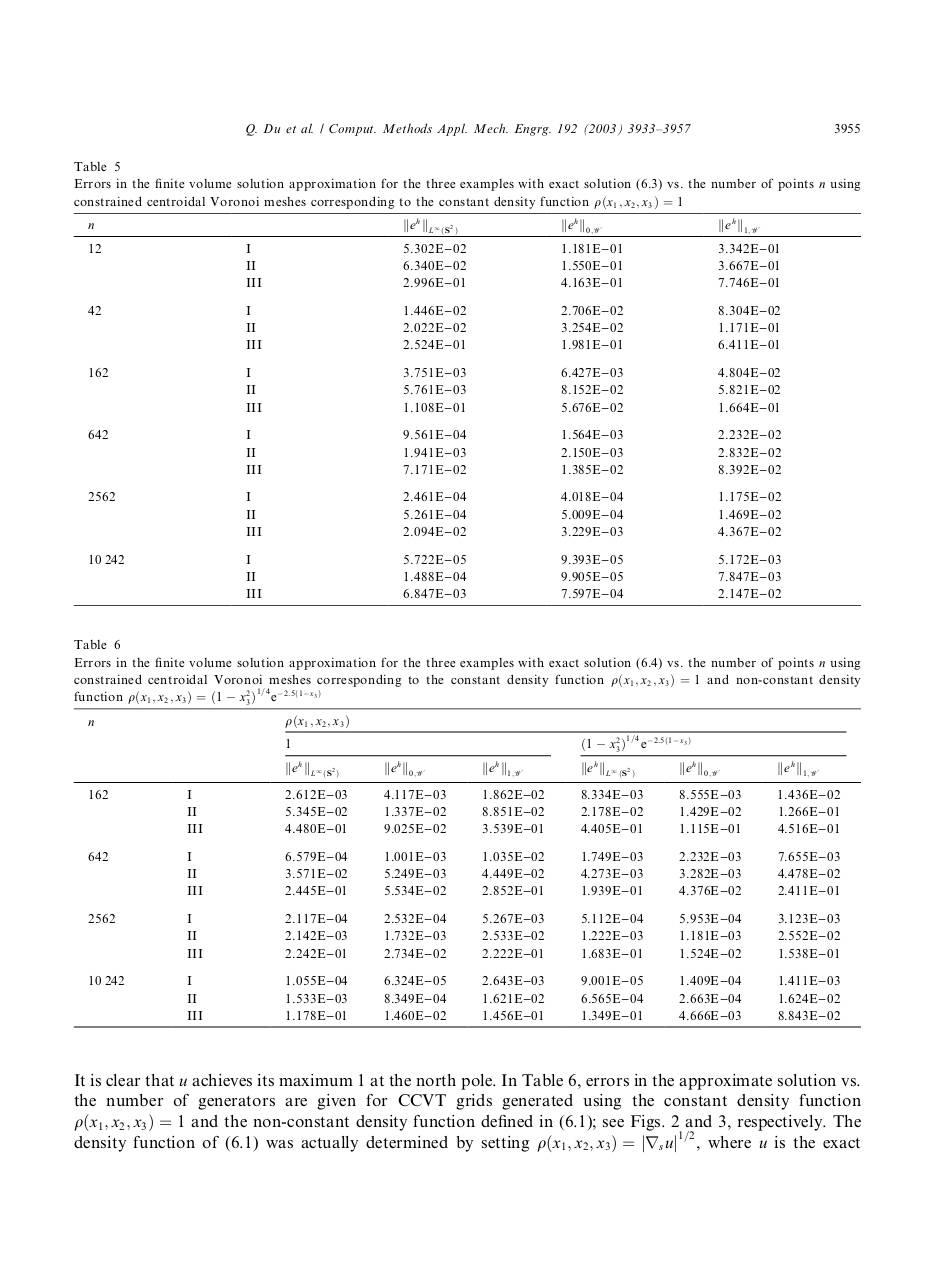Table: (73, 213, 860, 605), (73, 708, 860, 1027)
